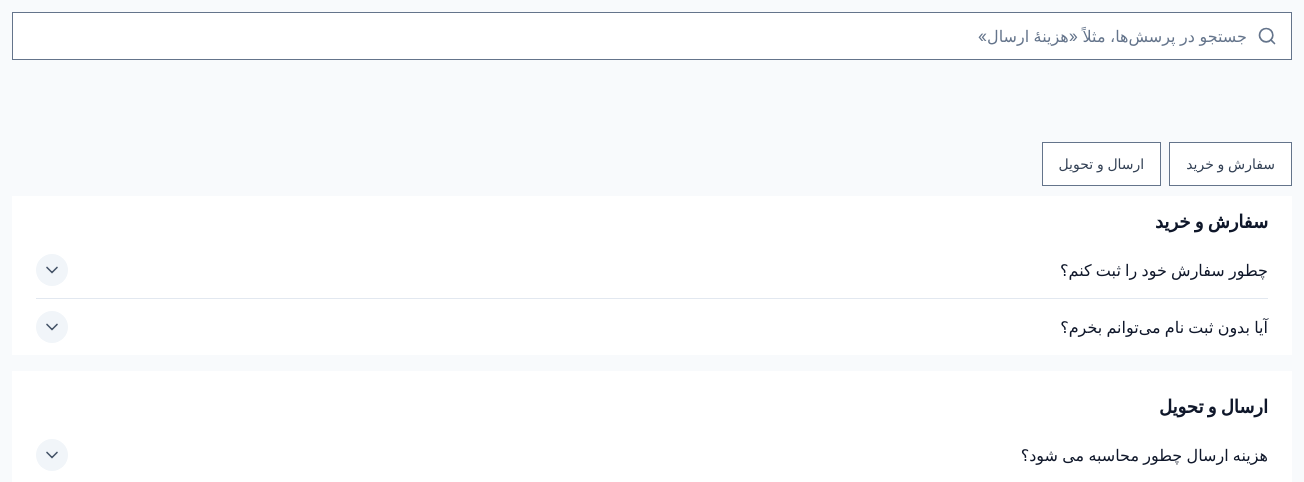
the search › searches the answers too, and counts every match
This screenshot has width=1304, height=482.
Type "خرید" into the search field with placeholder "جستجو در پرسش‌ها، مثلاً «هزینهٔ ارسال»". click: (635, 36)
box: [13, 13, 1257, 59]
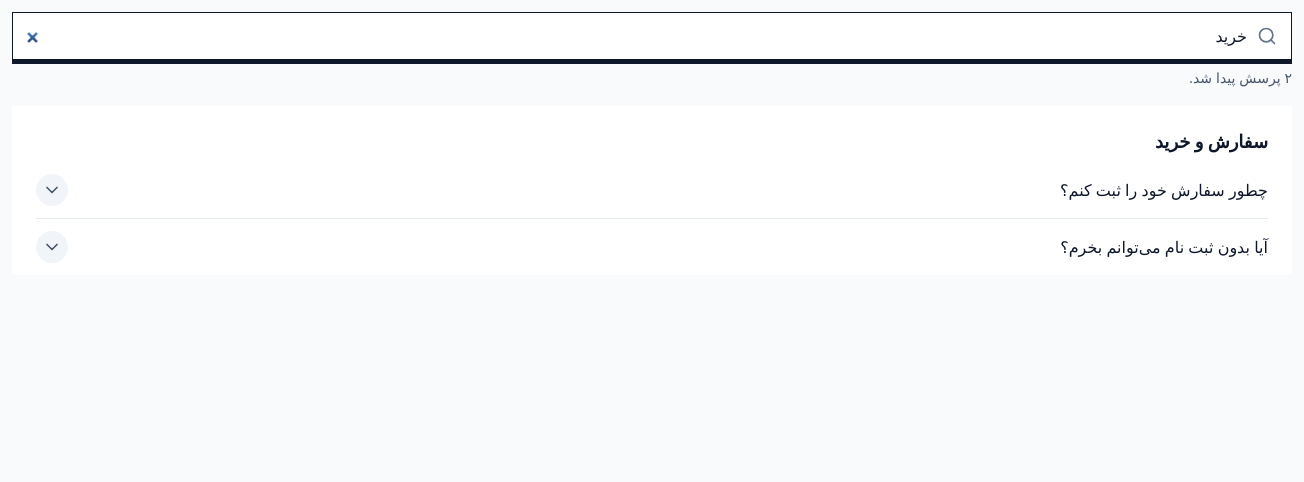
Check: the message reads "۲ پرسش پیدا شد.", box [1189, 69, 1292, 86]
